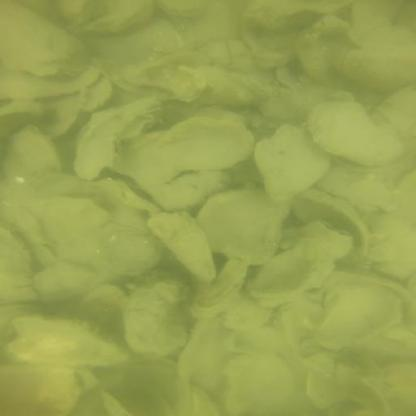Oyster- Indeterminate: (291, 187, 371, 266)
Oyster-Closed: (110, 114, 255, 191), (195, 186, 290, 266), (304, 98, 407, 165), (0, 1, 86, 78), (4, 318, 132, 369), (255, 122, 334, 202), (311, 284, 401, 354), (245, 237, 336, 304), (295, 11, 373, 83), (305, 355, 397, 416), (121, 276, 190, 357), (146, 211, 216, 282), (331, 45, 415, 91), (4, 126, 62, 184), (0, 220, 39, 305), (195, 66, 271, 108), (104, 227, 162, 277), (75, 0, 154, 32), (196, 37, 256, 71), (155, 0, 209, 19)
